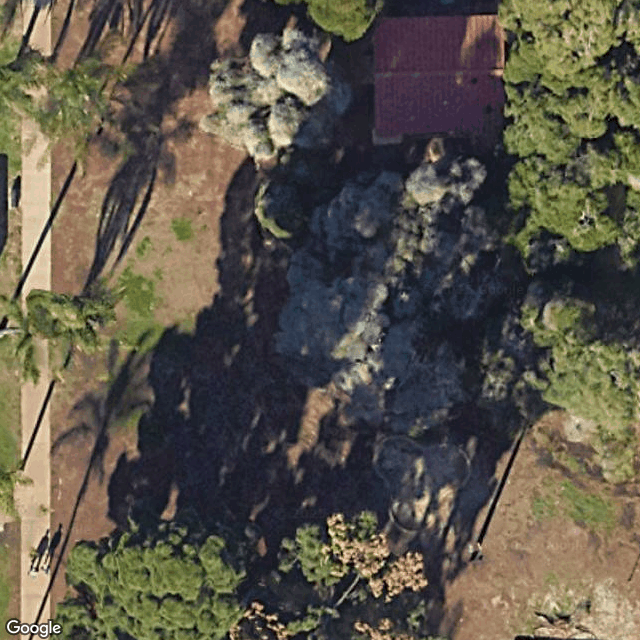palm: (1, 287, 116, 384), (42, 57, 144, 164)
